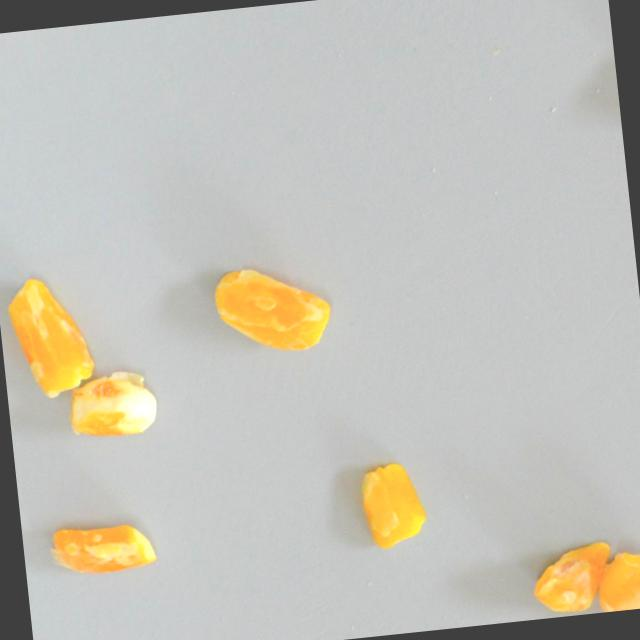pelicula: (207, 258, 333, 361), (2, 272, 96, 402), (62, 366, 160, 440), (44, 516, 155, 580), (525, 538, 616, 616), (353, 458, 427, 552), (590, 548, 640, 613)
